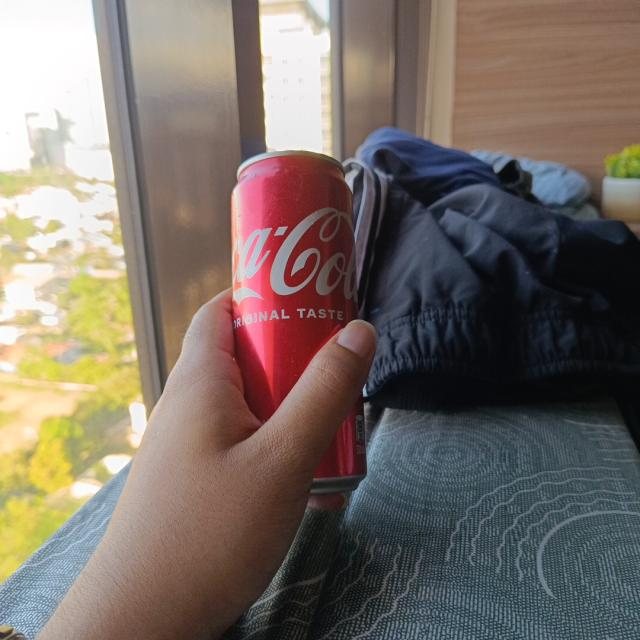coke: (228, 150, 365, 497)
